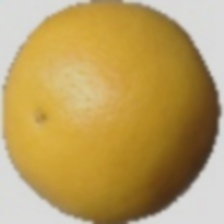grapes: (5, 33, 192, 198)
